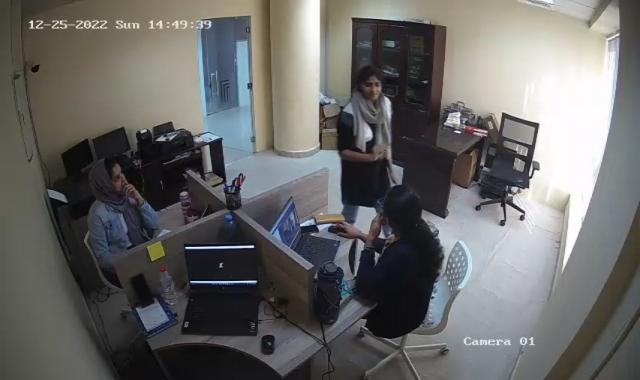no_hairnet: (382, 186, 422, 234), (87, 158, 126, 201), (357, 66, 383, 102)
